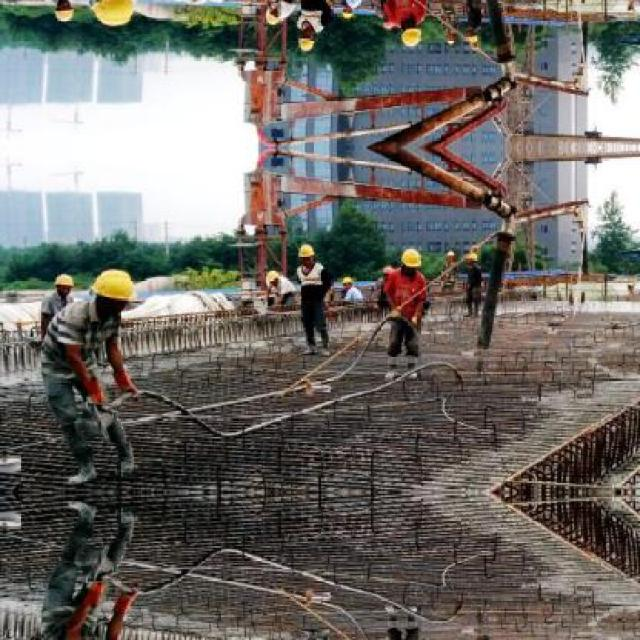helmet: (91, 263, 137, 312), (91, 0, 138, 31), (400, 18, 426, 50), (400, 243, 426, 274), (52, 0, 76, 22), (52, 272, 74, 294), (296, 238, 313, 264), (296, 29, 313, 54), (340, 3, 358, 22), (340, 271, 358, 289), (381, 260, 397, 278), (463, 248, 479, 266), (381, 14, 397, 32), (265, 266, 280, 285), (463, 27, 479, 44), (265, 8, 280, 26)
